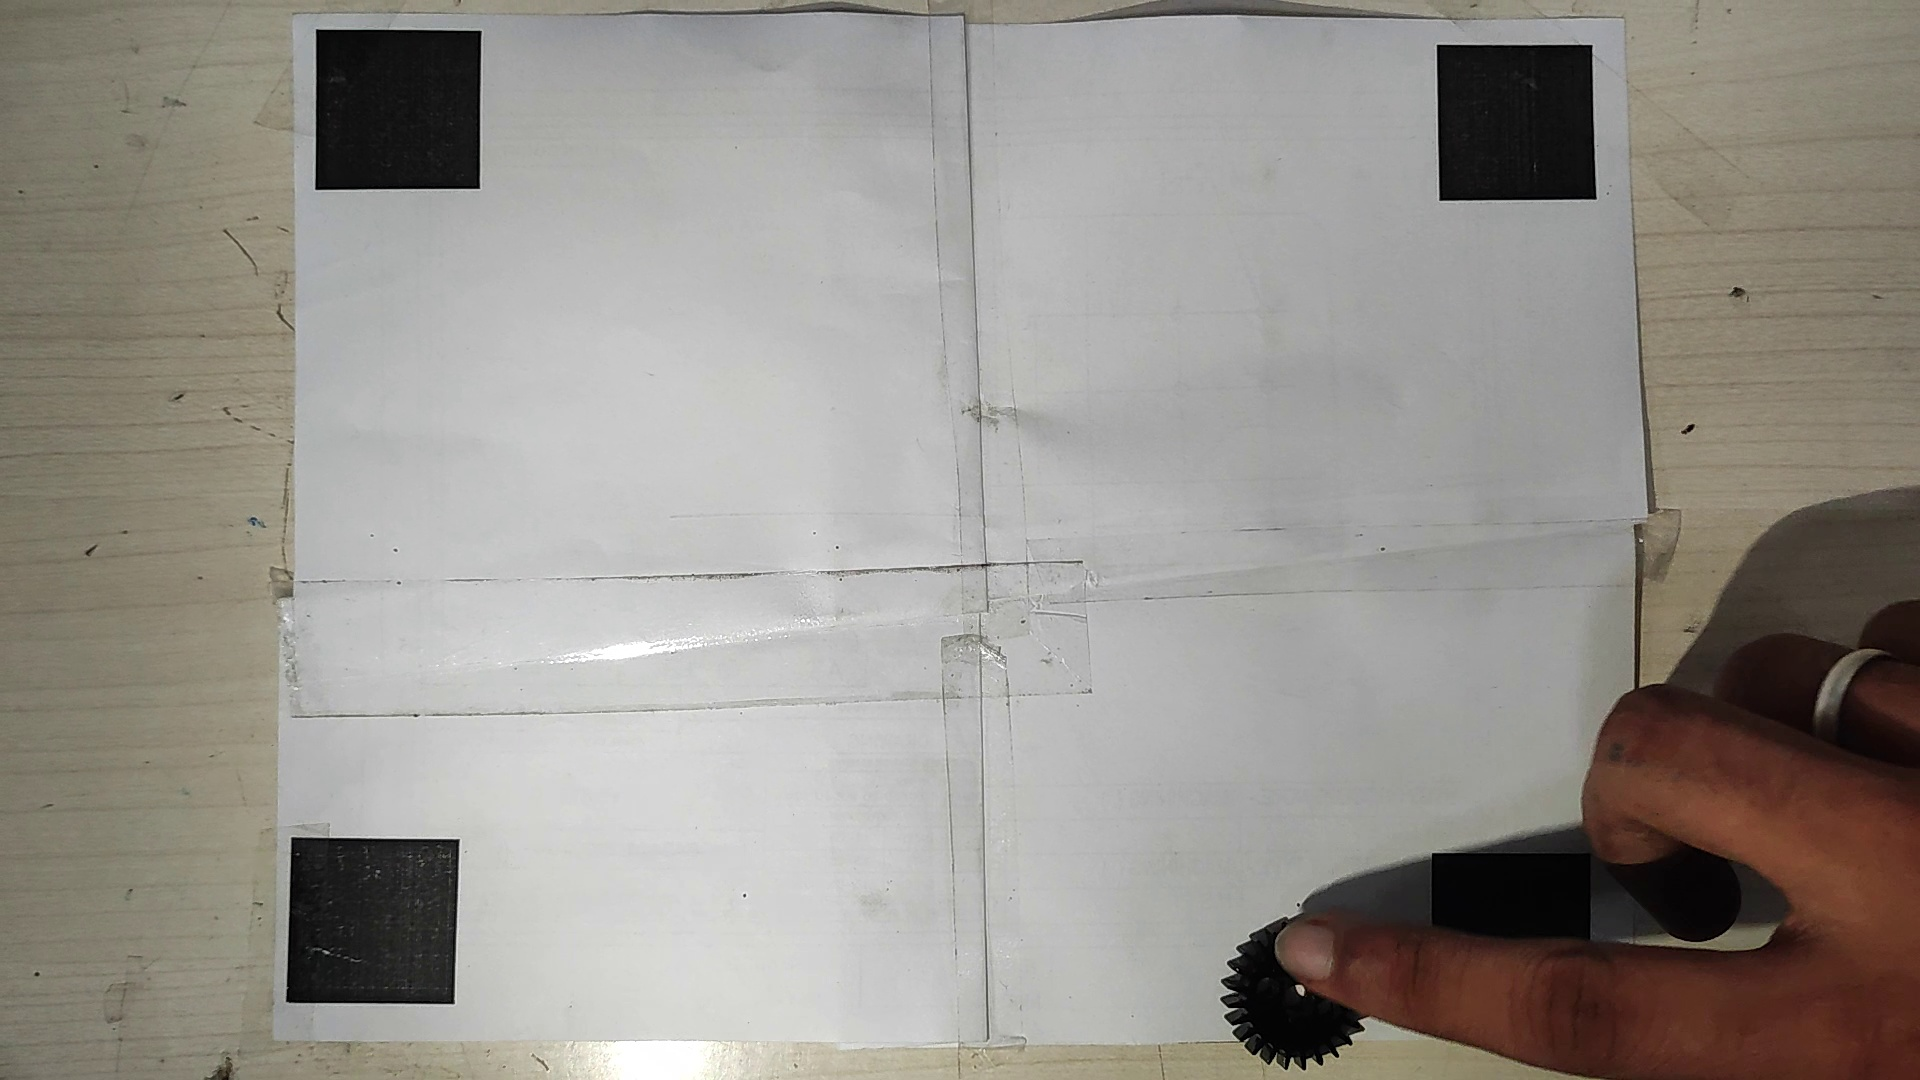Gear: (1221, 916, 1374, 1069)
